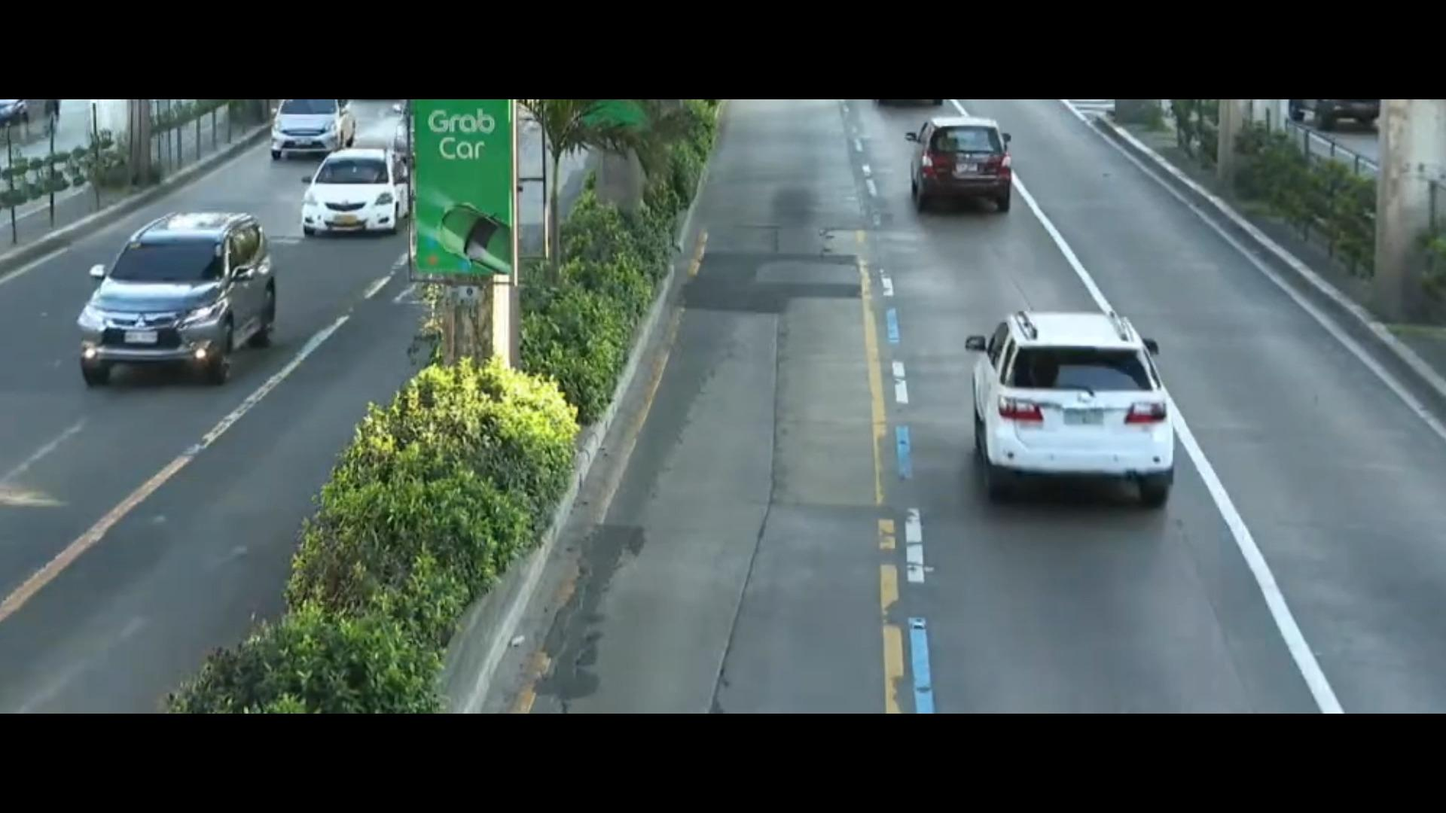SUV: (940, 300, 1213, 521), (61, 204, 302, 405), (258, 104, 358, 158)
Sedan: (895, 109, 1039, 229), (302, 128, 429, 247)
